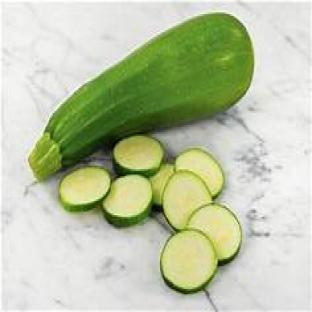Zucchini: (30, 13, 253, 179), (160, 230, 218, 292), (188, 203, 241, 264), (163, 171, 211, 230), (104, 175, 152, 227), (175, 149, 224, 197), (60, 166, 109, 211), (113, 136, 163, 176), (150, 163, 174, 209)
